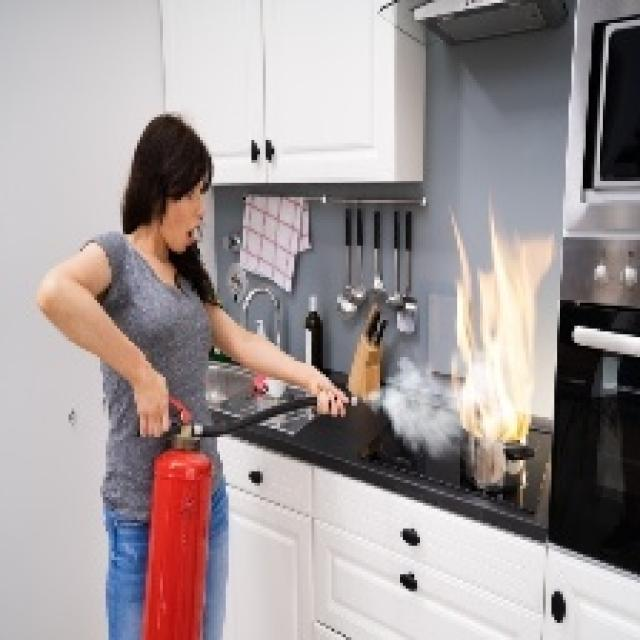Fire: (446, 206, 553, 441)
